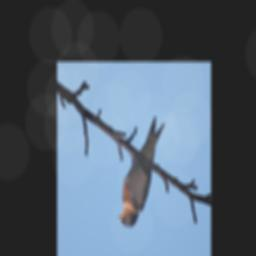Swallow: (117, 116, 165, 228)
